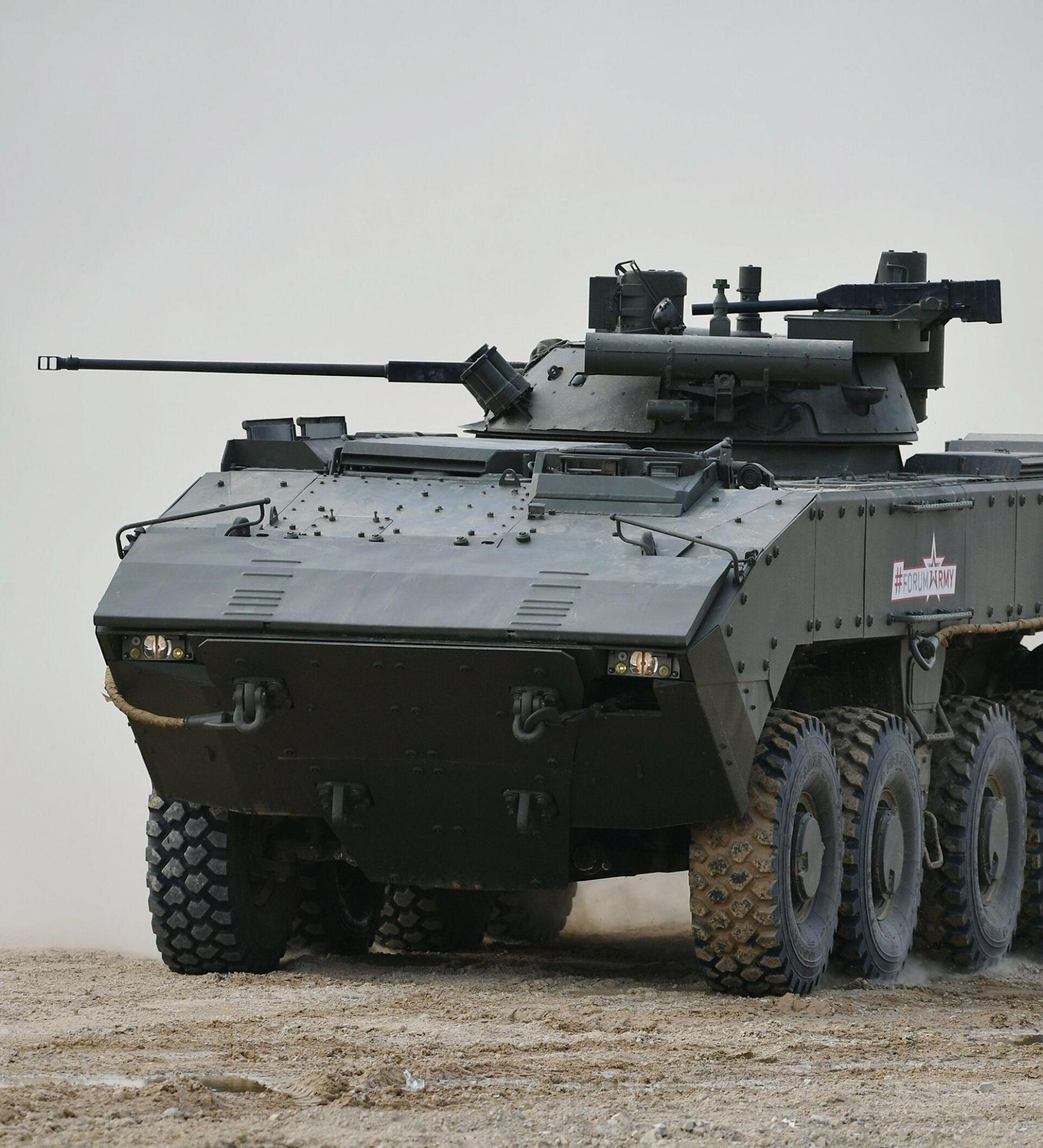tank: (33, 244, 1043, 996)
